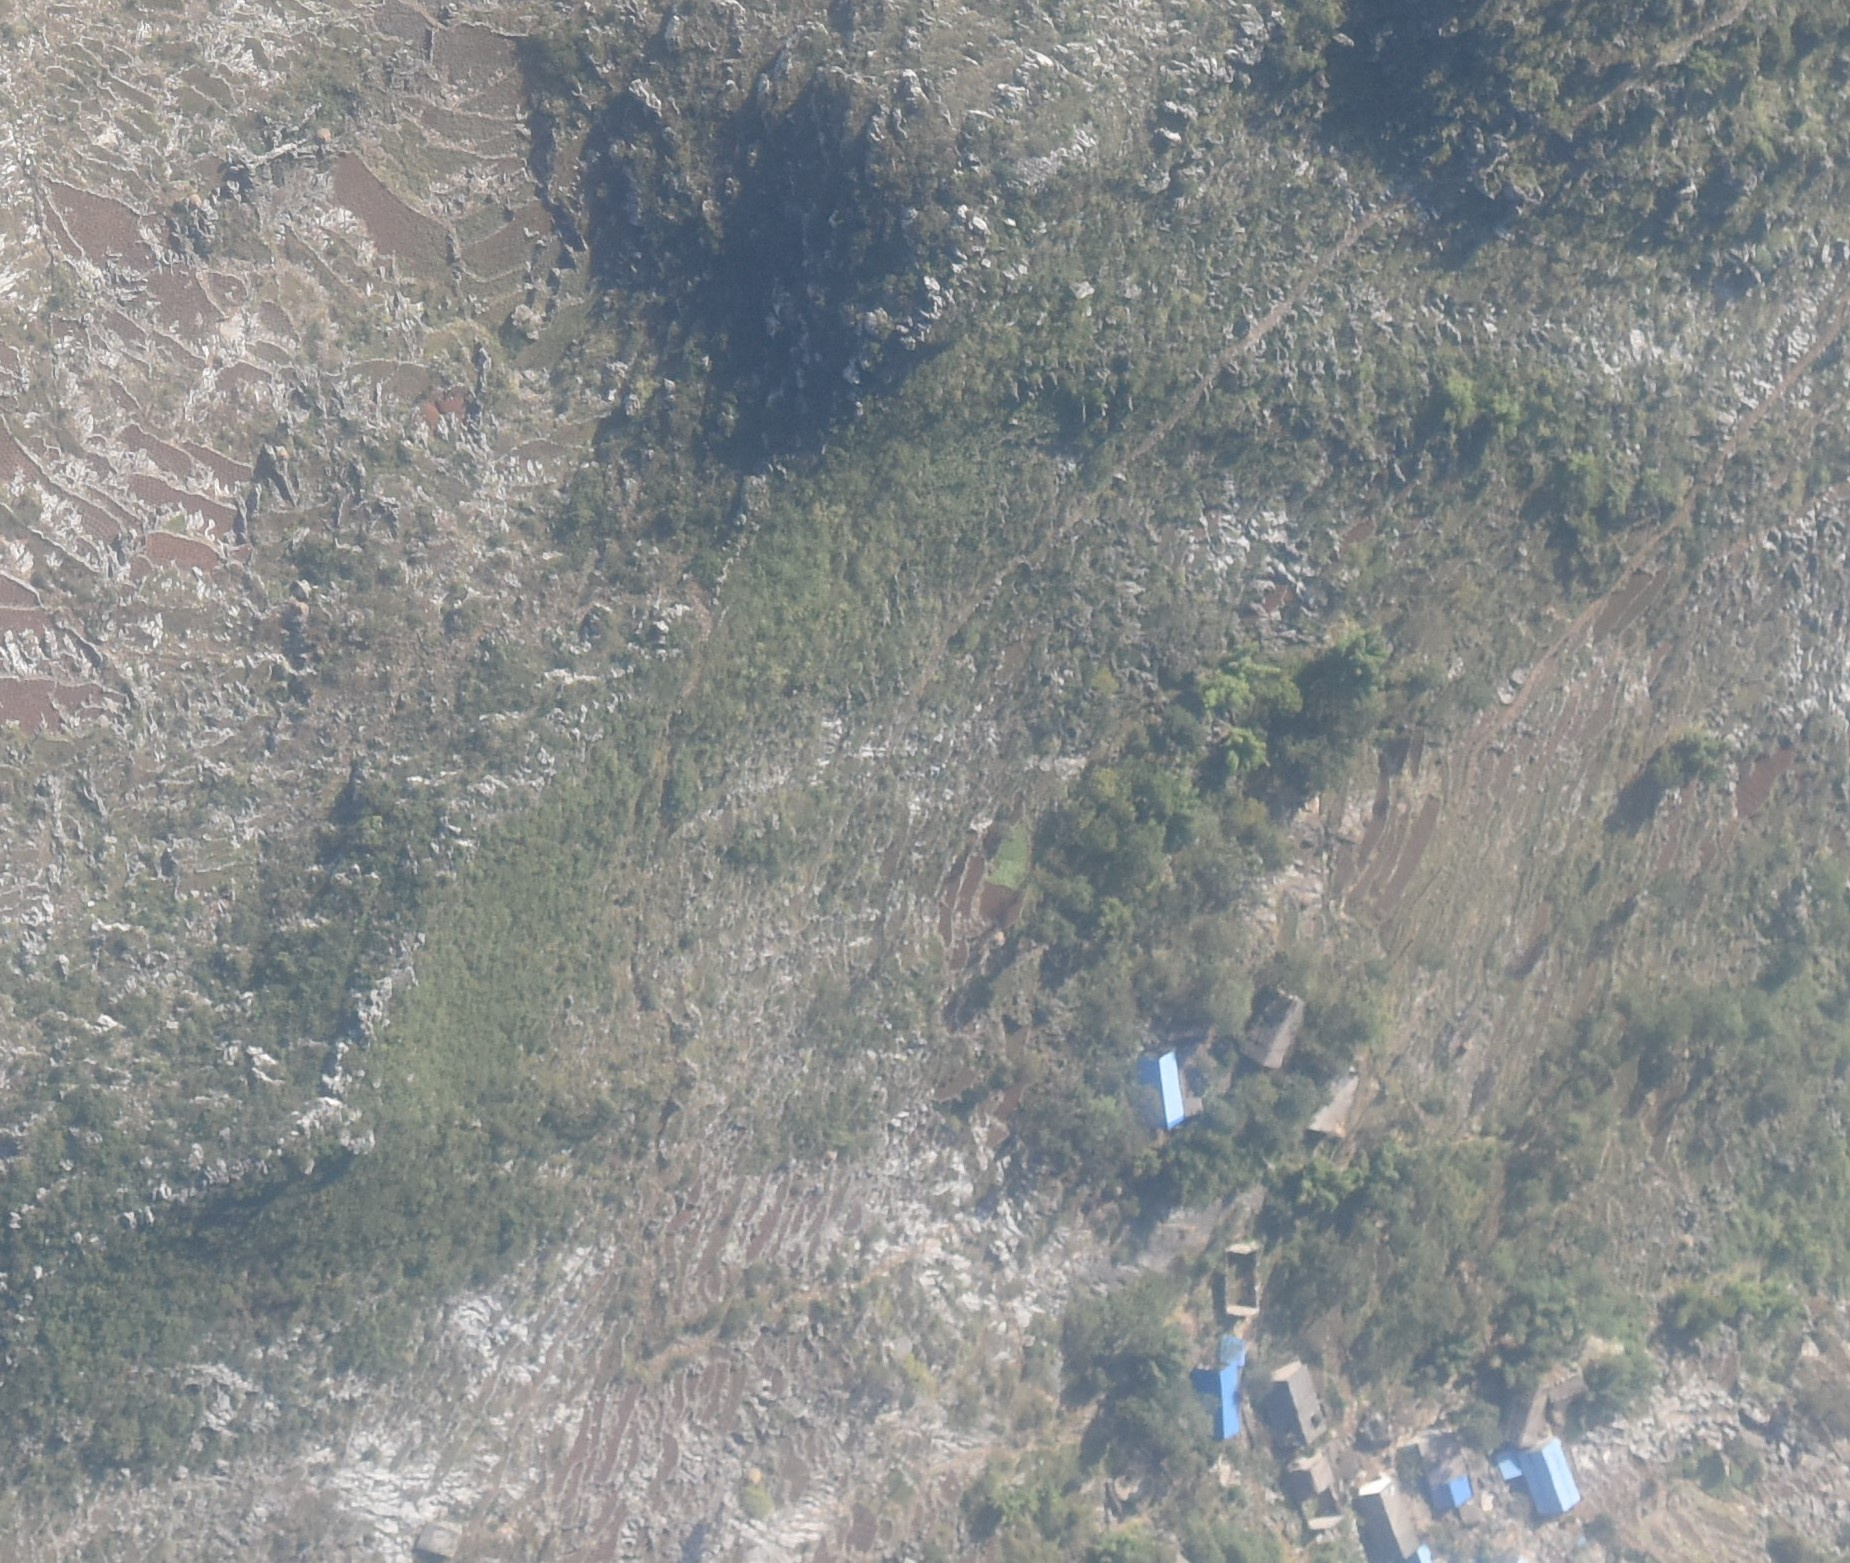building: (1242, 985, 1307, 1071), (1270, 1368, 1329, 1445), (1360, 1482, 1417, 1561), (1307, 1059, 1358, 1138), (1503, 1374, 1552, 1444), (1227, 1248, 1259, 1316), (1289, 1456, 1334, 1503), (1549, 1371, 1586, 1403)
prefabricated-house: (1521, 1437, 1580, 1516), (1140, 1047, 1185, 1127), (1194, 1368, 1244, 1436), (1430, 1475, 1475, 1509), (1496, 1441, 1523, 1482), (1220, 1334, 1247, 1365)
